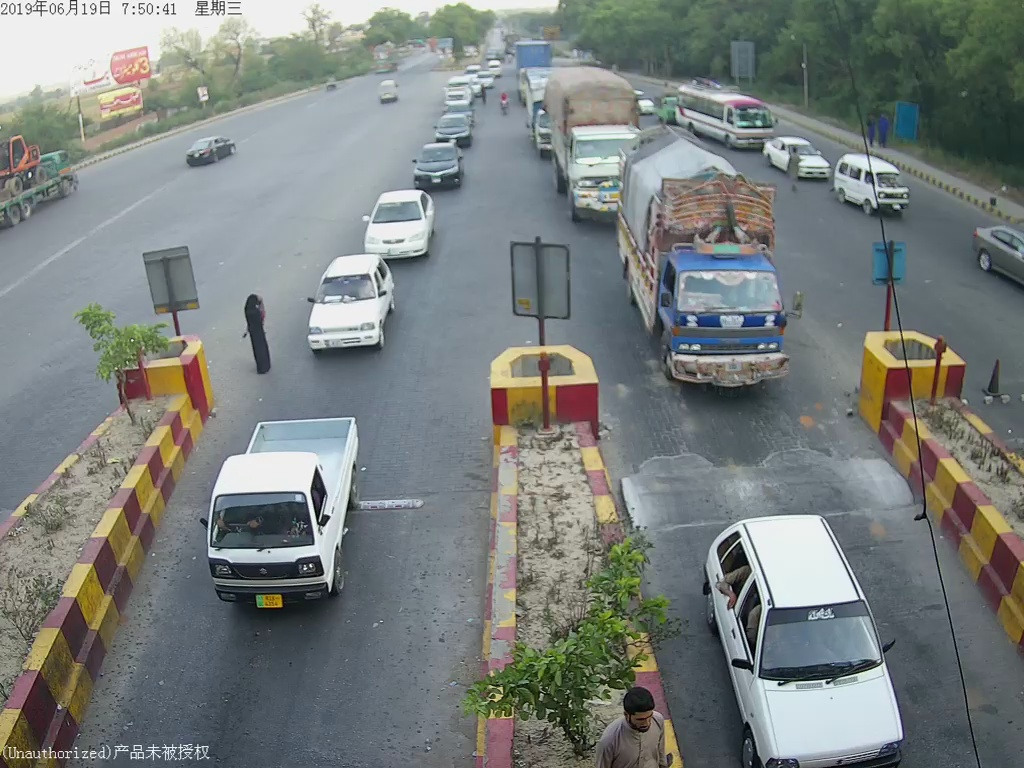Cat-1: (198, 406, 366, 611), (302, 253, 397, 354), (358, 186, 439, 262), (404, 137, 467, 193)
Cat-2: (618, 130, 801, 389)
Cat-4: (541, 54, 645, 227)
